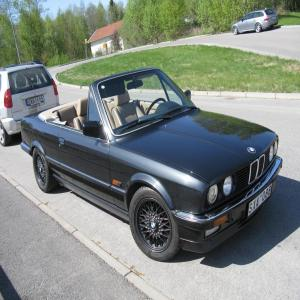Vehicle-registration-plate: (249, 184, 274, 218), (27, 97, 45, 106)
